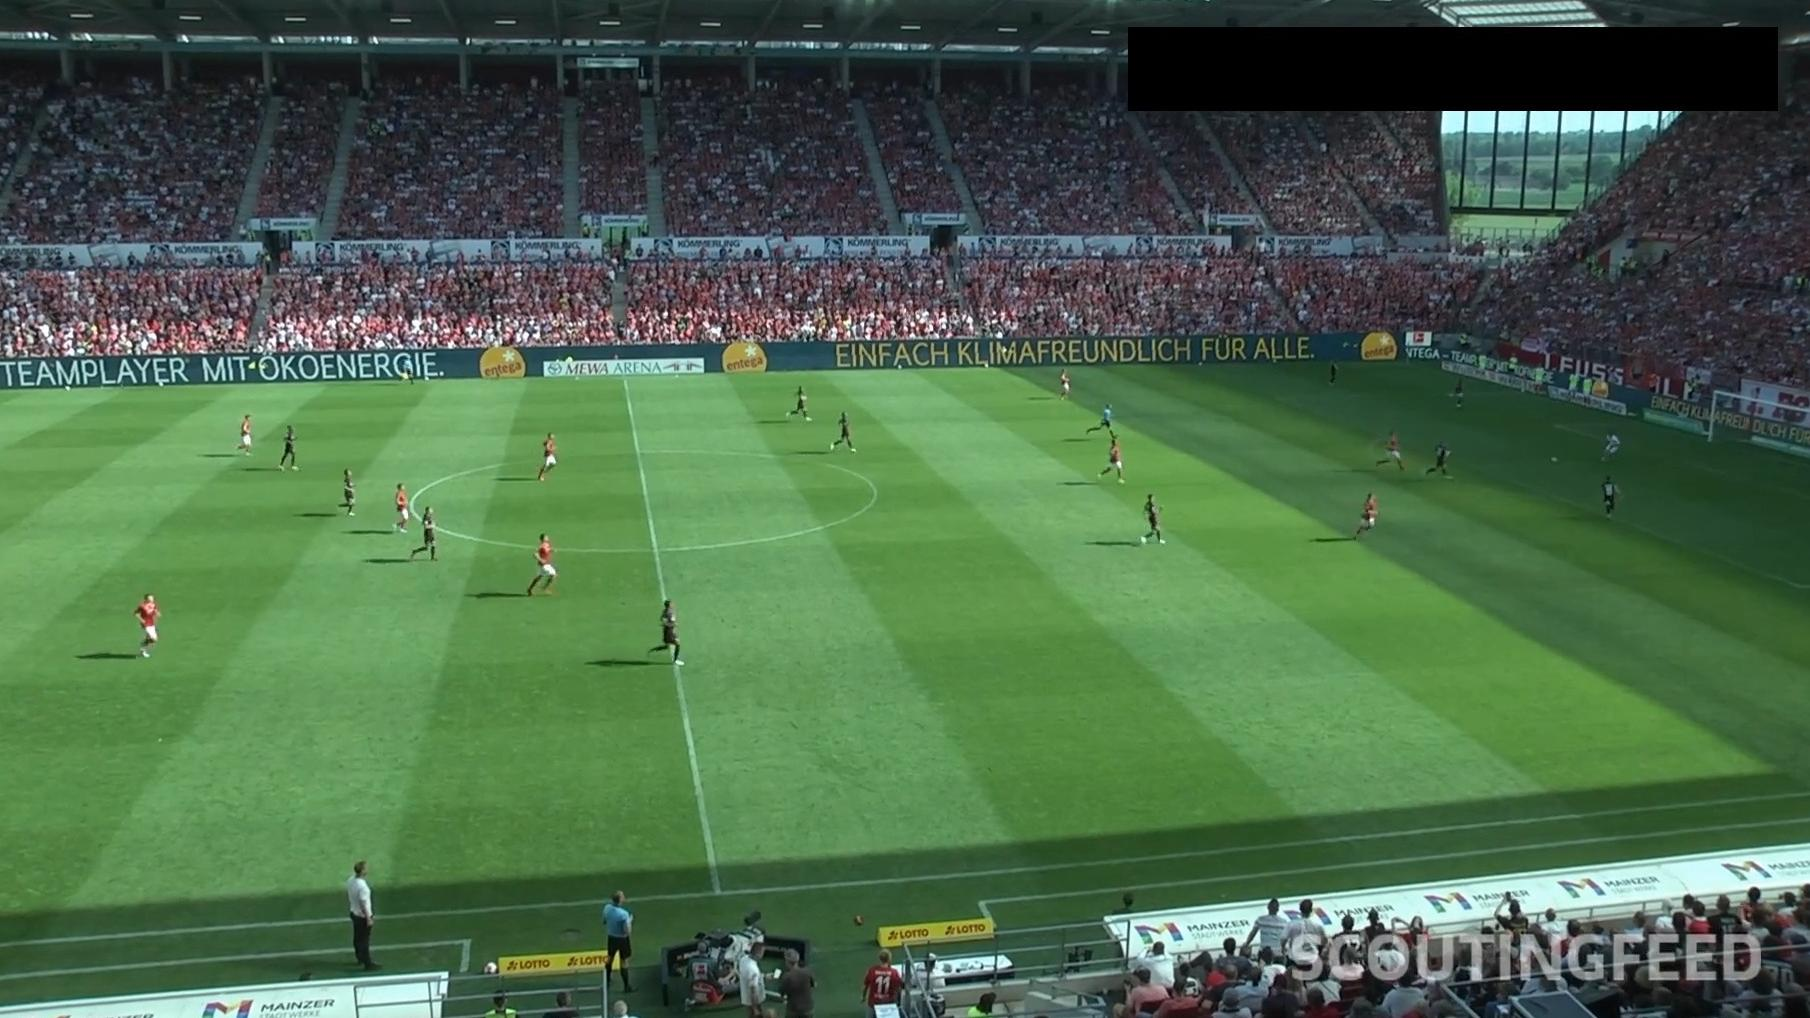ball: (1550, 456, 1559, 464)
